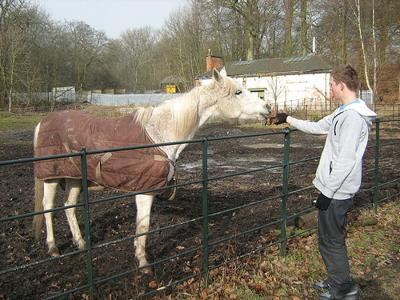person: (268, 64, 374, 300)
